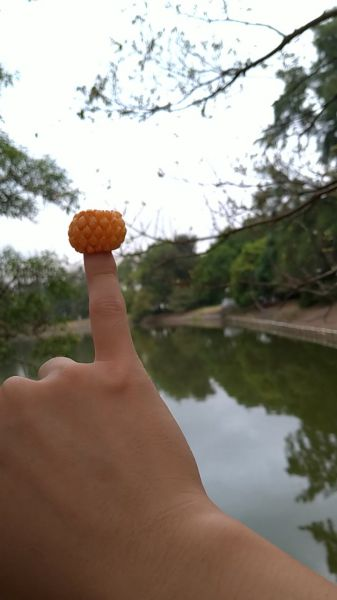eggs: (68, 209, 126, 253)
